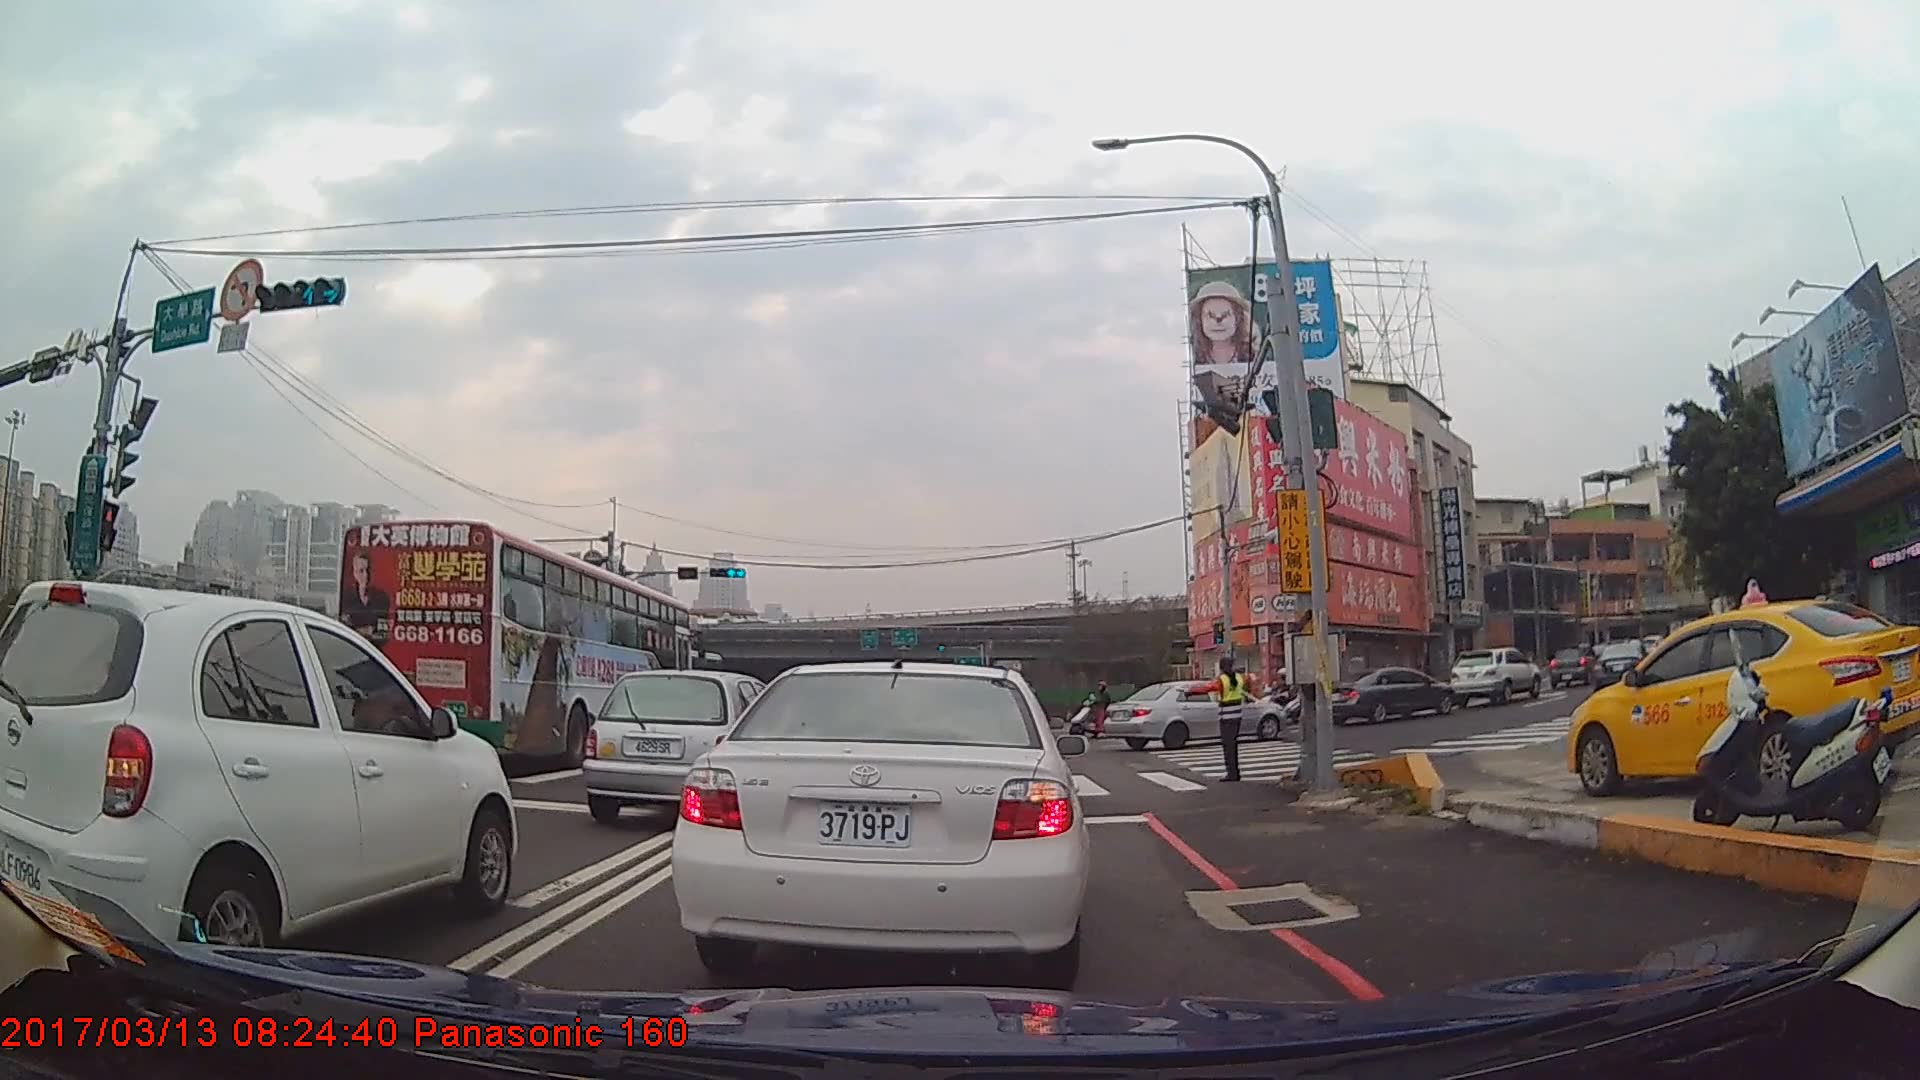pedestrian: (1206, 656, 1250, 785)
rider: (1072, 682, 1133, 738), (1253, 667, 1302, 725)
vehicle: (0, 576, 514, 977), (669, 659, 1086, 988), (328, 516, 698, 772), (1563, 598, 1920, 797), (582, 669, 808, 827), (1100, 679, 1285, 749), (1320, 664, 1453, 724), (1450, 645, 1541, 707), (1591, 638, 1656, 698), (1549, 642, 1601, 688)
